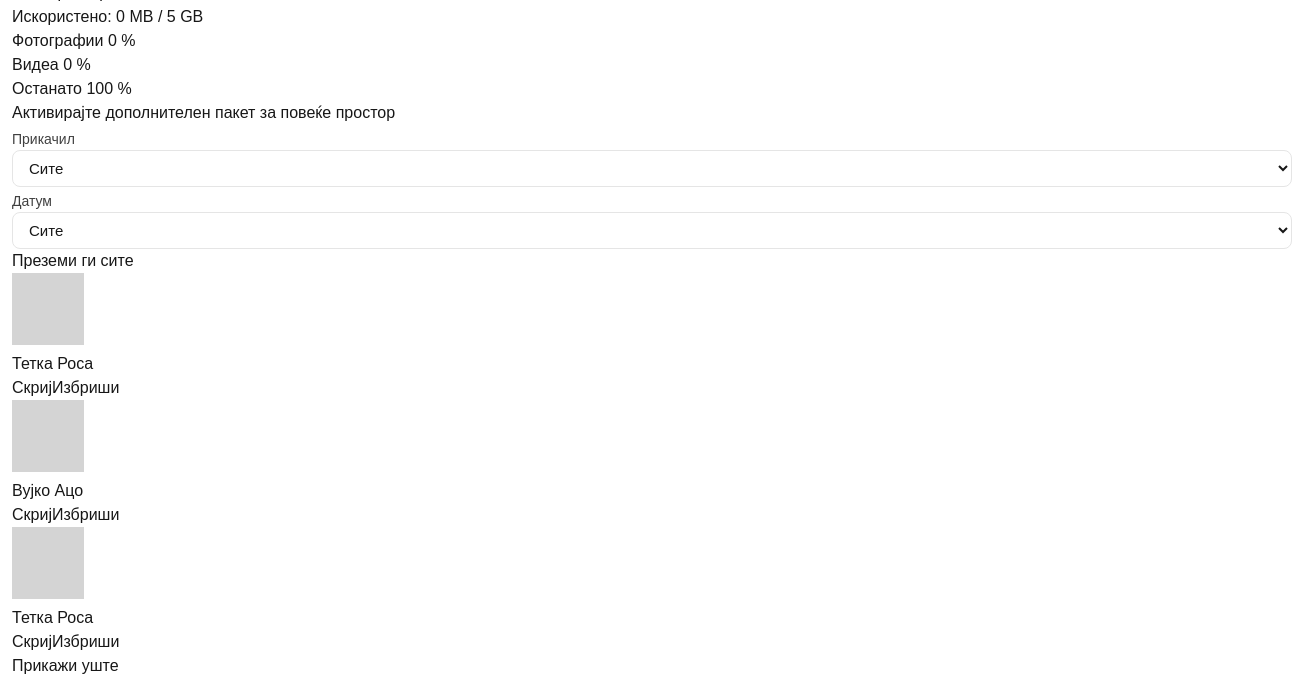
it: AlbumClient › loads older photos
(page scrolled)
Click the button "Прикажи уште": (65, 666) [12,654,119,677]
(page scrolled)
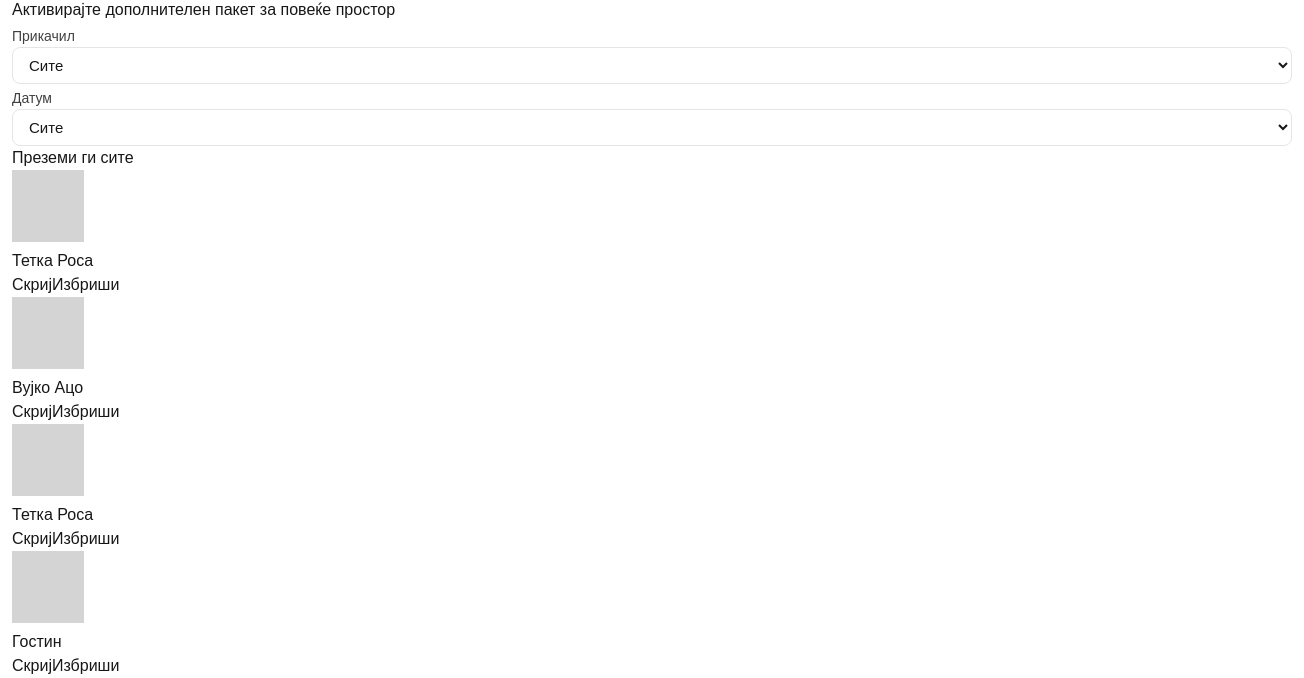
Check: the list item with test id "photo-p0" is shown, box [12,551,119,677]
Check: the button "Прикажи уште" is gone
